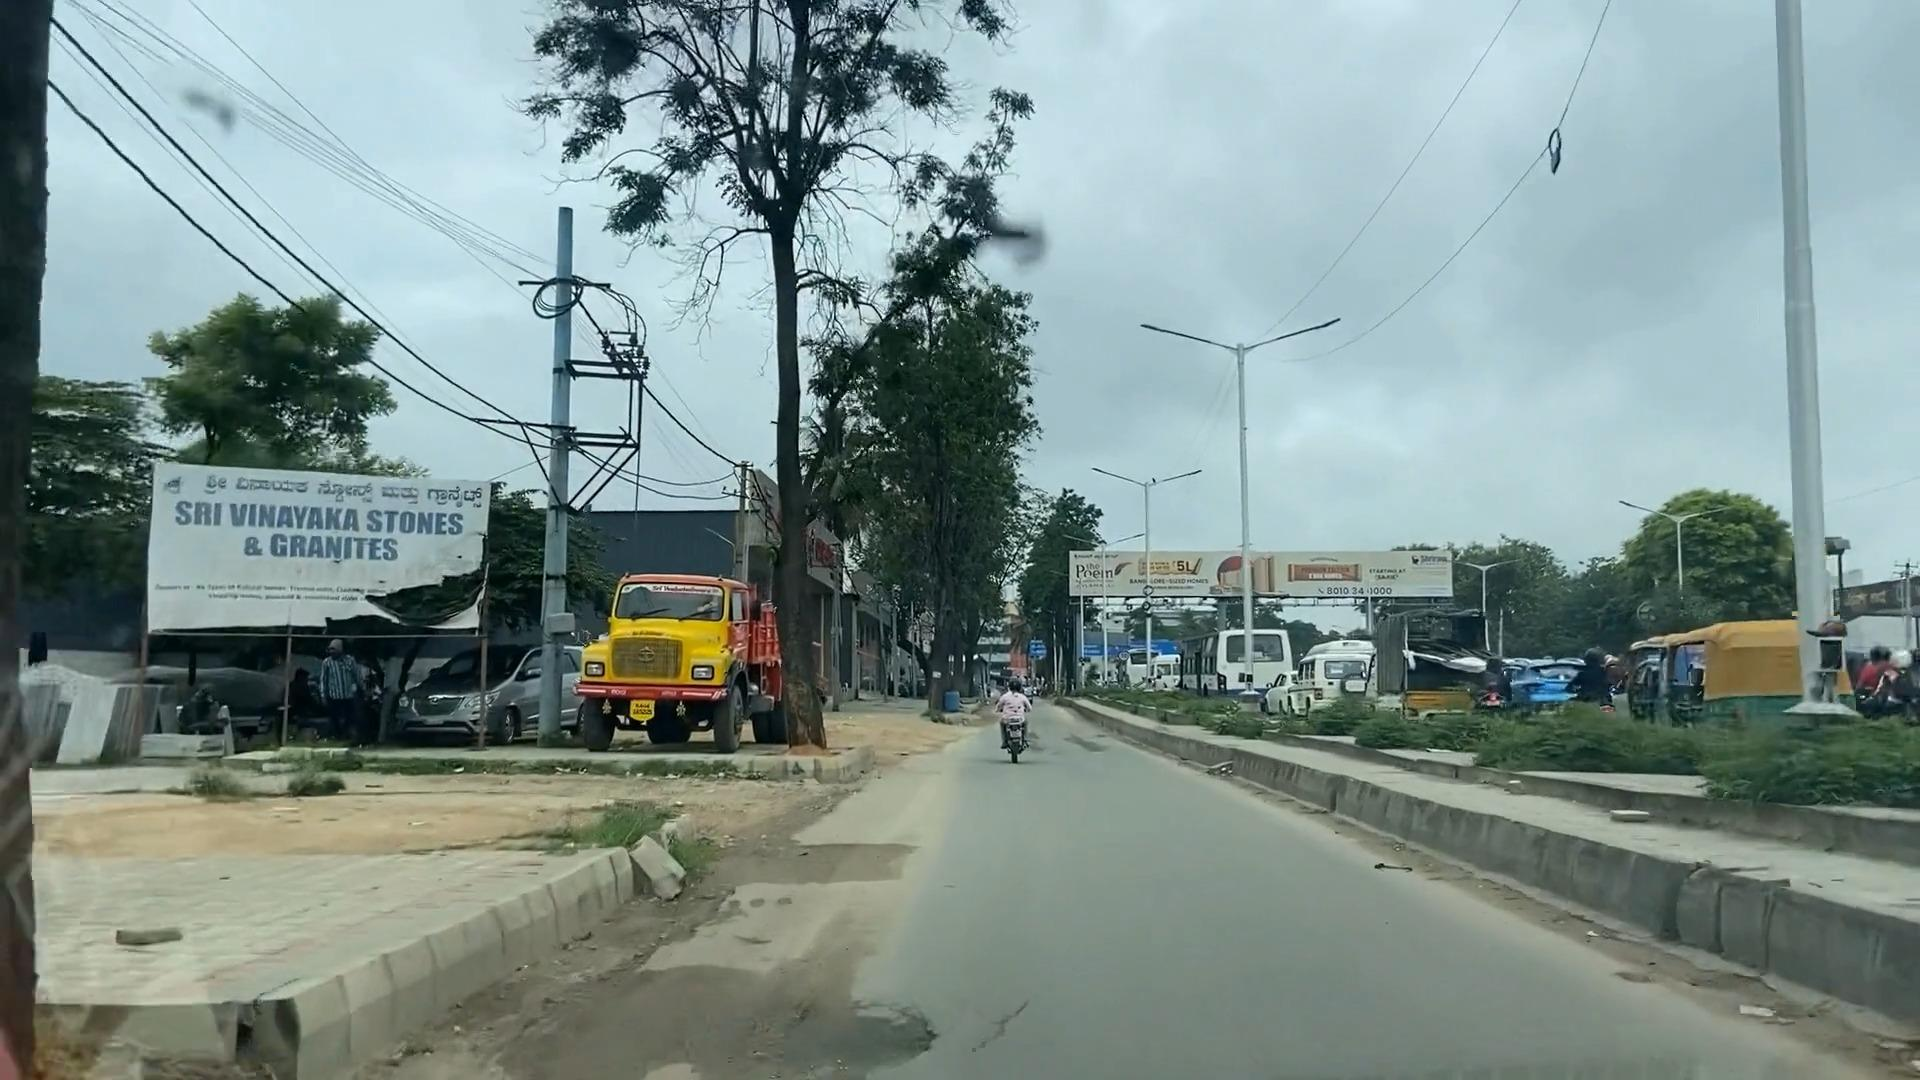RoadDamages: (559, 964, 930, 1080), (723, 823, 936, 903), (959, 973, 1056, 1071)
